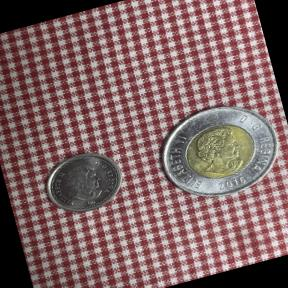coin: (139, 86, 288, 218), (32, 138, 134, 225)
